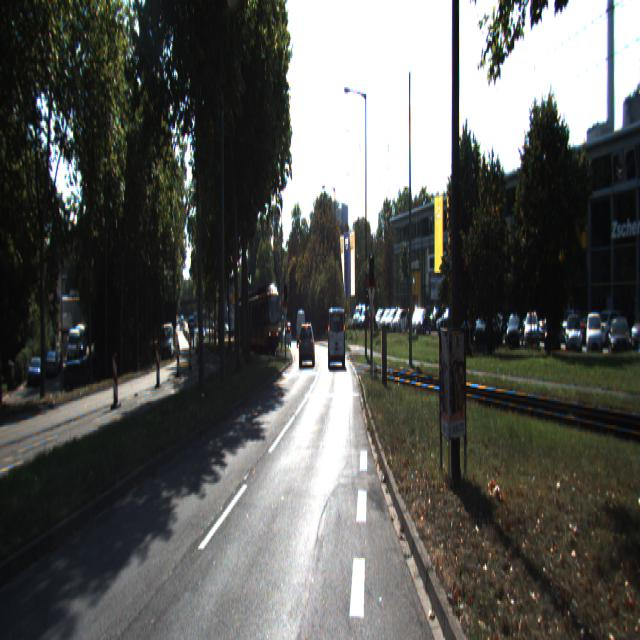Car: (240, 290, 280, 355), (328, 306, 344, 372), (298, 322, 316, 367)
